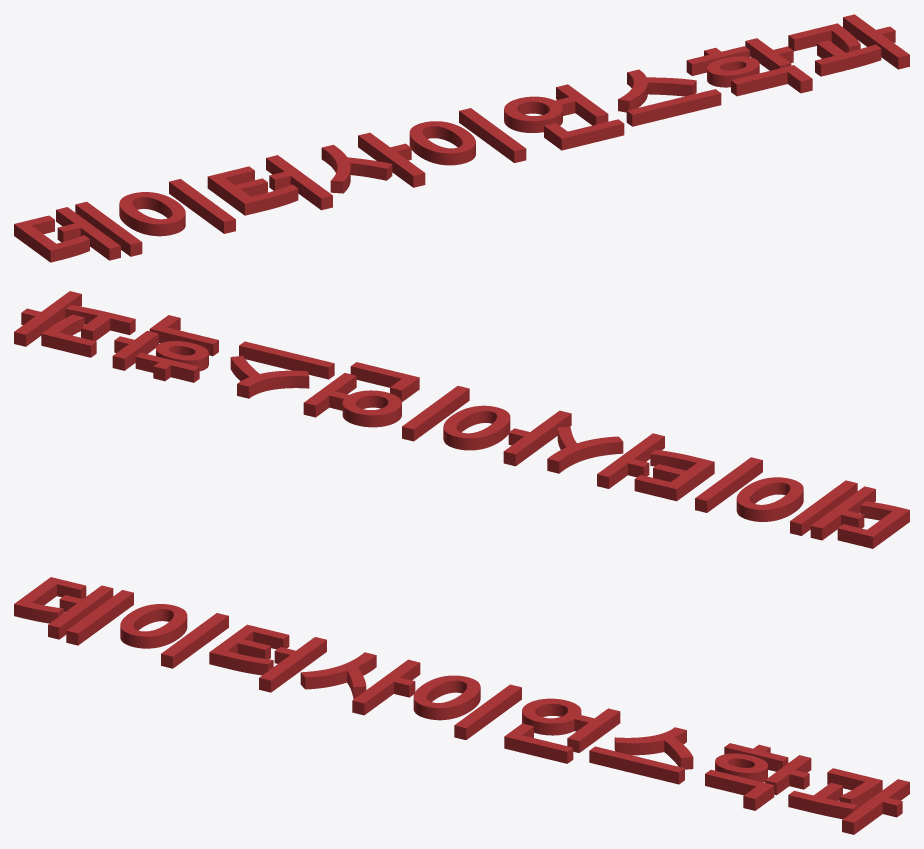
The model's file is true10.fbx.
3 views of the same model, one above another, from view 1: azimuth 30°, elevation 25°; view 2: azimuth 150°, elevation 25°; view 3: azimuth 330°, elevation 25° (orthographic).
Parts seen in each view (by area): view 1: Text; view 2: Text; view 3: Text.
Part boxes in pixels (left/top/right/bottom): Text: left=14, top=14, right=909, bottom=262; Text: left=14, top=291, right=909, bottom=548; Text: left=14, top=577, right=909, bottom=834.
Bounding box in the file's own units: 684 × 9.06 × 77.11.
